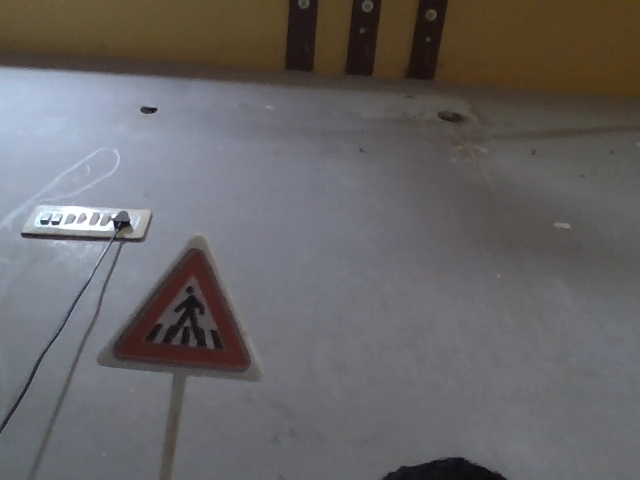crossing: (111, 243, 270, 377)
